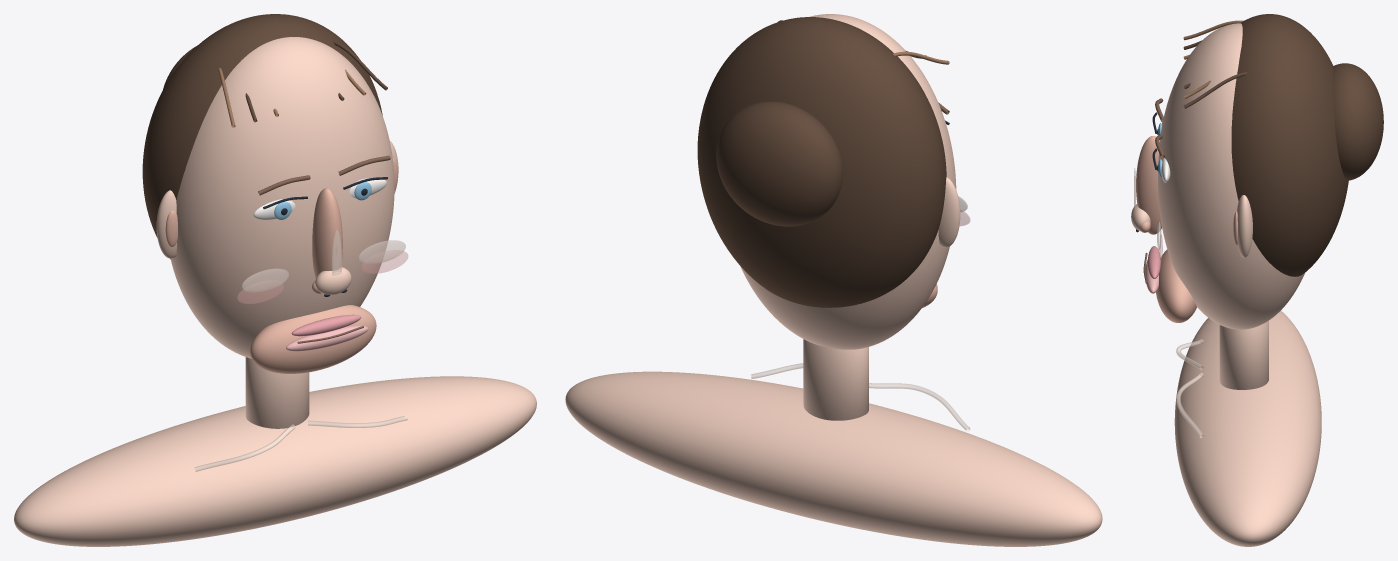
File: genosys-athlete-face-bust-final-optimized.glb
3 renders of one model, left to right at view 1: azimuth 30°, elevation 25°; view 2: azimuth 150°, elevation 25°; view 3: azimuth 270°, elevation 25°, orthographic. The views are drawn at different scales.
Parts seen in each view (by area): view 1: bun_inner_twist, left_cheek_luminous_highlight; view 2: bun_inner_twist, left_cheek_luminous_highlight; view 3: bun_inner_twist, left_cheek_luminous_highlight.
Part boxes in pixels (bbox=[...]): bun_inner_twist: bbox=[14, 14, 536, 546]; left_cheek_luminous_highlight: bbox=[194, 230, 408, 471]; bun_inner_twist: bbox=[565, 14, 1102, 546]; left_cheek_luminous_highlight: bbox=[751, 196, 970, 431]; bun_inner_twist: bbox=[1131, 14, 1383, 546]; left_cheek_luminous_highlight: bbox=[1134, 168, 1203, 437].
Size of the model in its own units: 2.84 by 2.53 by 1.3.
2 materials, 2 textured.
